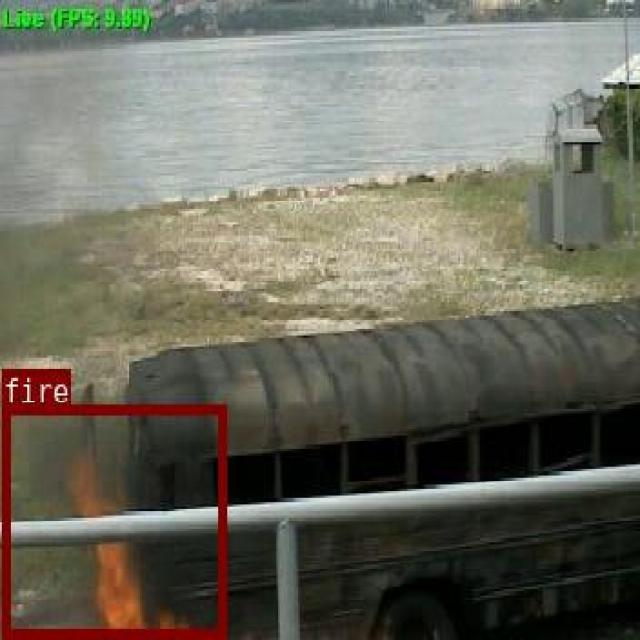fire: (1, 403, 224, 636)
